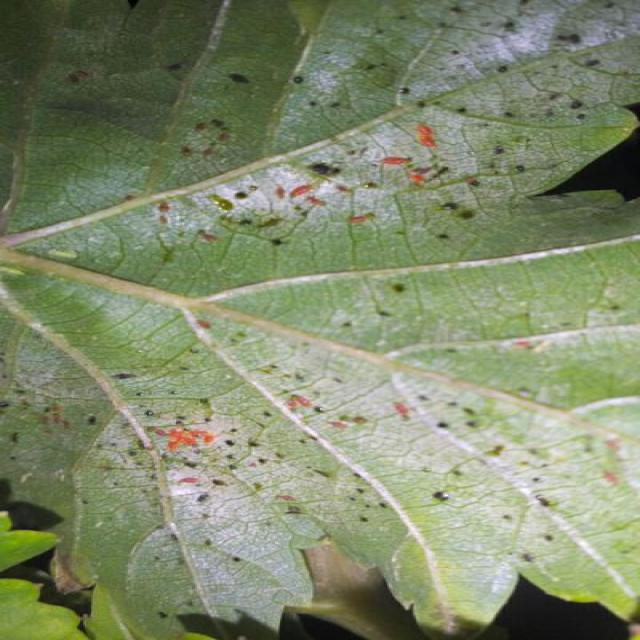Thrip-Group-: (182, 25, 604, 237), (7, 352, 380, 534)
